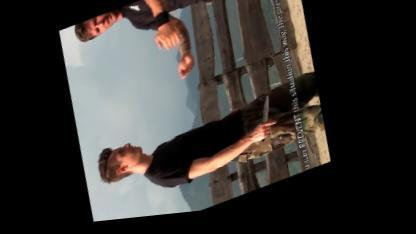knife: (248, 96, 288, 154)
